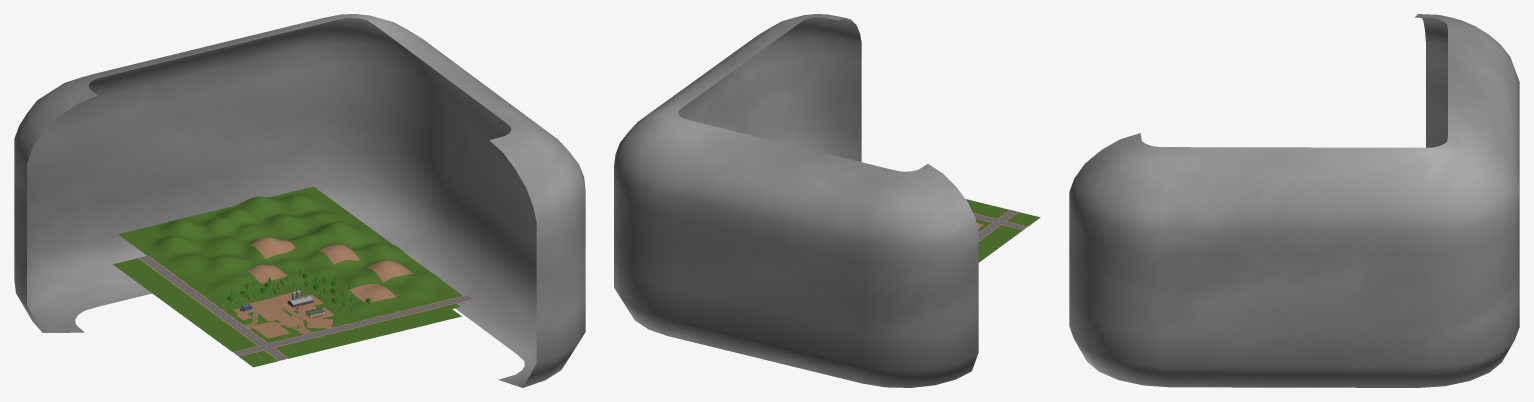
File: LS_clean_scene1_1.fbx
3 views of the same model, side by side, from view 1: azimuth 30°, elevation 25°; view 2: azimuth 150°, elevation 25°; view 3: azimuth 270°, elevation 25° (orthographic). The views are drawn at different scales.
Parts seen in each view (by area): view 1: skybox2, ground, dirt_overlays, mainroads; view 2: skybox2, ground, mainroads; view 3: skybox2.
Part boxes in pixels (x1,y1,x2,y2): skybox2: (14,14,585,387); ground: (113,186,462,367); dirt_overlays: (233,237,413,338); mainroads: (138,255,473,360); skybox2: (614,14,978,387); ground: (966,199,1040,262); mainroads: (973,209,1028,241); skybox2: (1069,14,1519,387).
Bounding box in the file's own units: 1020 × 559 × 1018.
